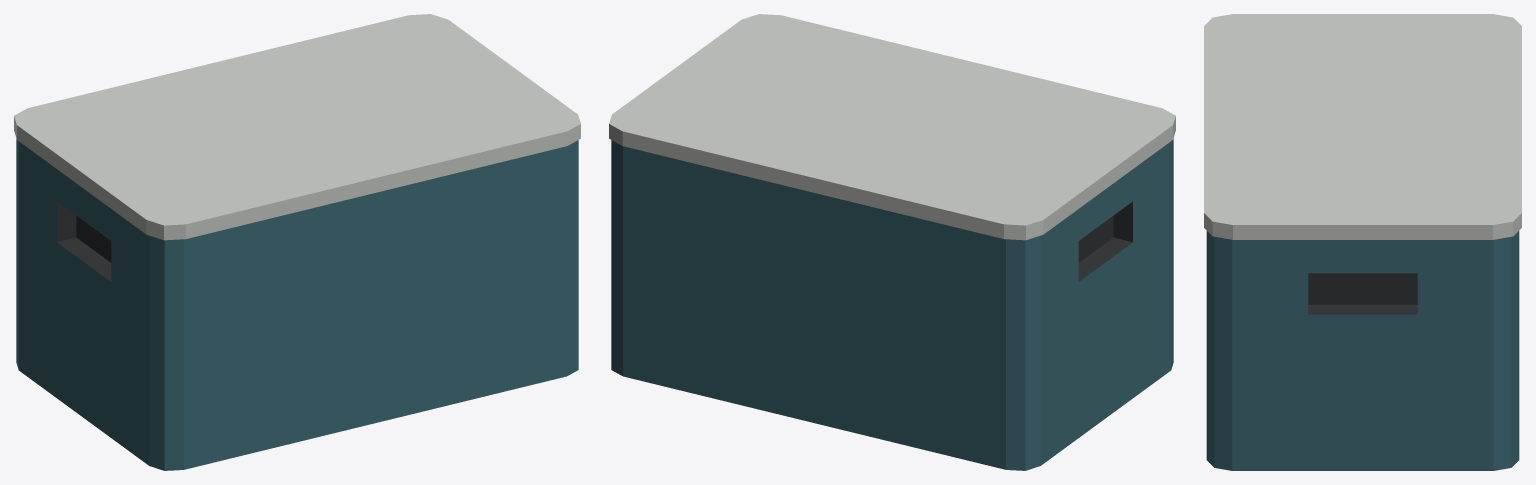
File: cooler_box.glb
3 renders of one model, left to right at view 1: azimuth 30°, elevation 25°; view 2: azimuth 150°, elevation 25°; view 3: azimuth 270°, elevation 25°, orthographic.
Parts seen in each view (by area): view 1: cooler_box; view 2: cooler_box; view 3: cooler_box.
Boxes of the visible parts, x1=… form: cooler_box: x1=14, y1=14, x2=580, y2=470; cooler_box: x1=609, y1=14, x2=1175, y2=470; cooler_box: x1=1204, y1=14, x2=1521, y2=470.
Bounding box in the file's own units: 0.55 × 0.3 × 0.35.
